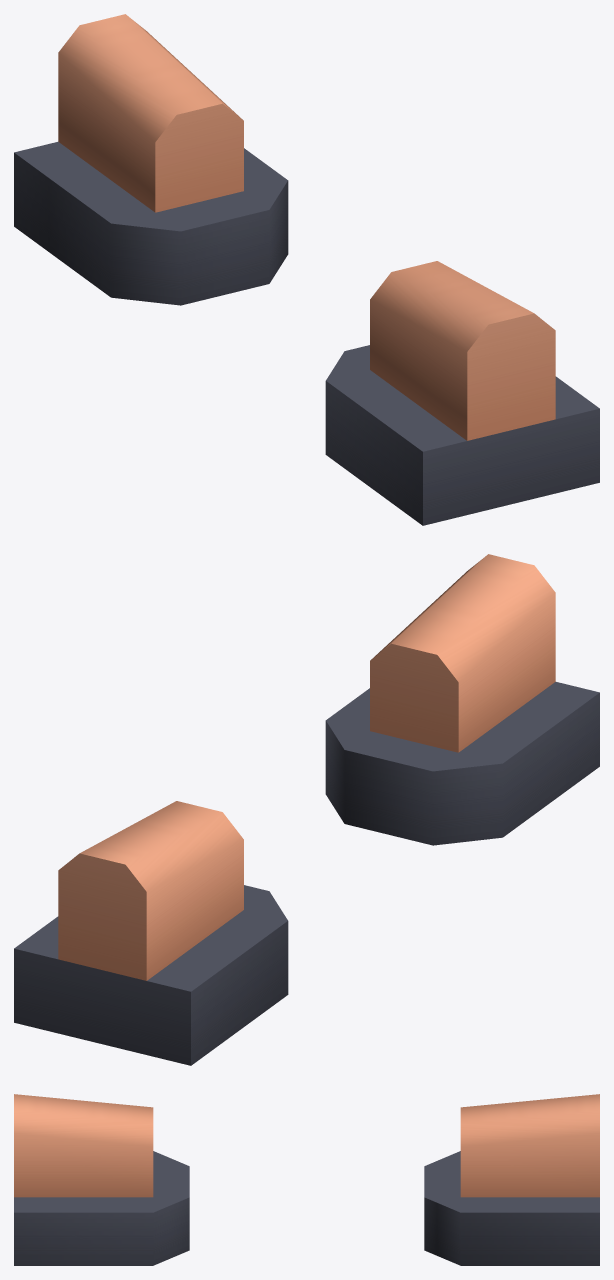
File: hedge-gate.glb
The picture shows the model from 3 angles, top to bottom: view 1: azimuth 30°, elevation 25°; view 2: azimuth 150°, elevation 25°; view 3: azimuth 270°, elevation 25°; orthographic projection. The views are drawn at different scales.
Visible parts, largest first — view 1: hedge-gate; view 2: hedge-gate; view 3: hedge-gate.
Part boxes in pixels (box(x1,y1,x2,y2)): hedge-gate: box(14, 14, 599, 525); hedge-gate: box(14, 554, 599, 1065); hedge-gate: box(14, 1094, 599, 1265).
Bounding box in the file's own units: 0.25 × 0.25 × 1.
1 material, 1 textured.
